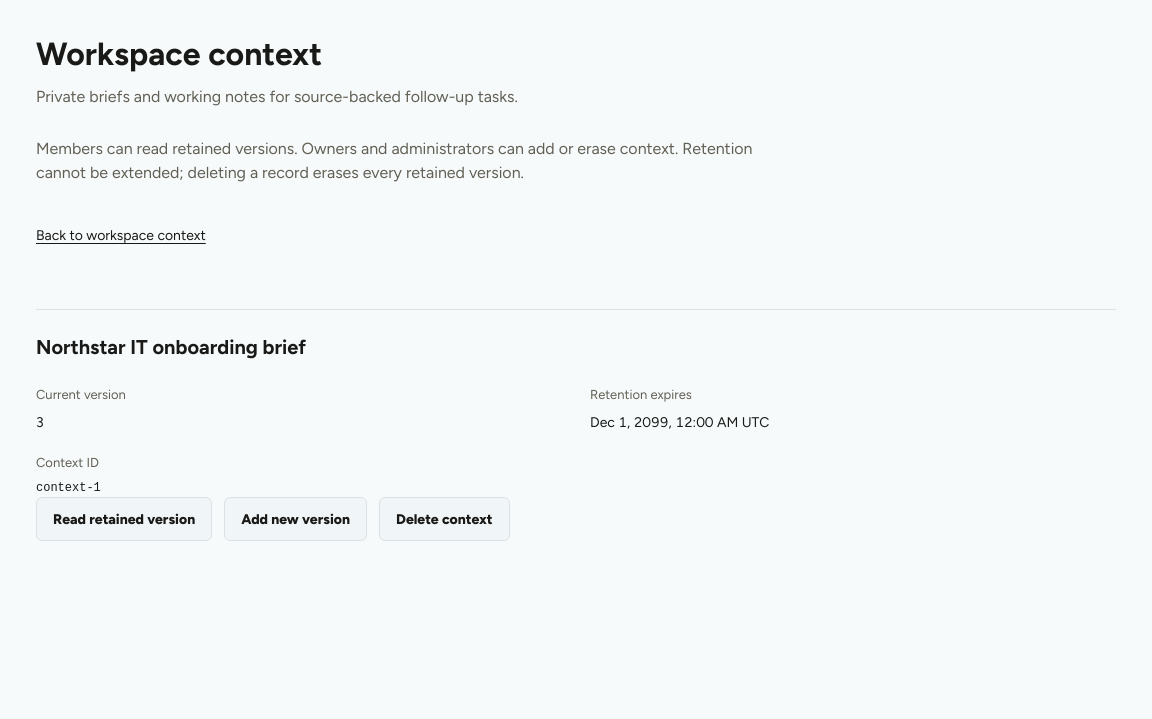
Test: uses expected_version and stops on conflicts until the current record is refreshed
Step 1. Click the button "Add new version" → click(296, 519), box [224,497,367,541]
(page scrolled)
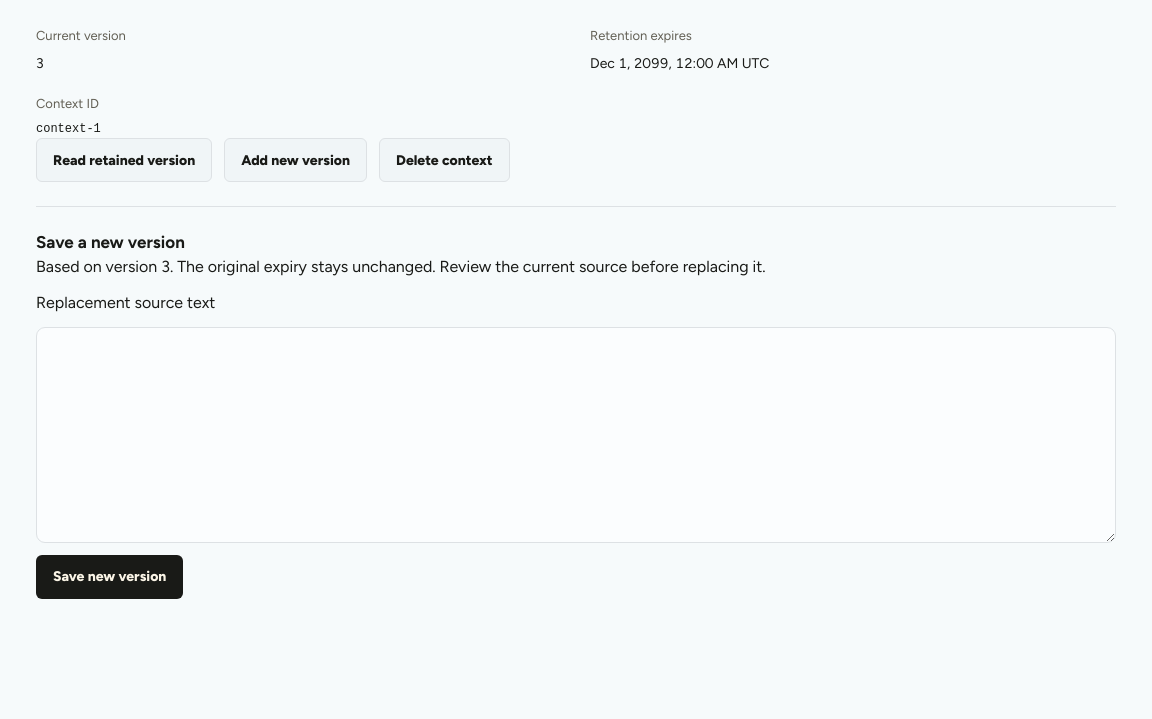
Step 2. Type "Reviewed support handoff" into the text box labelled "Replacement source text" → (576, 435), box [36,327,1116,543]
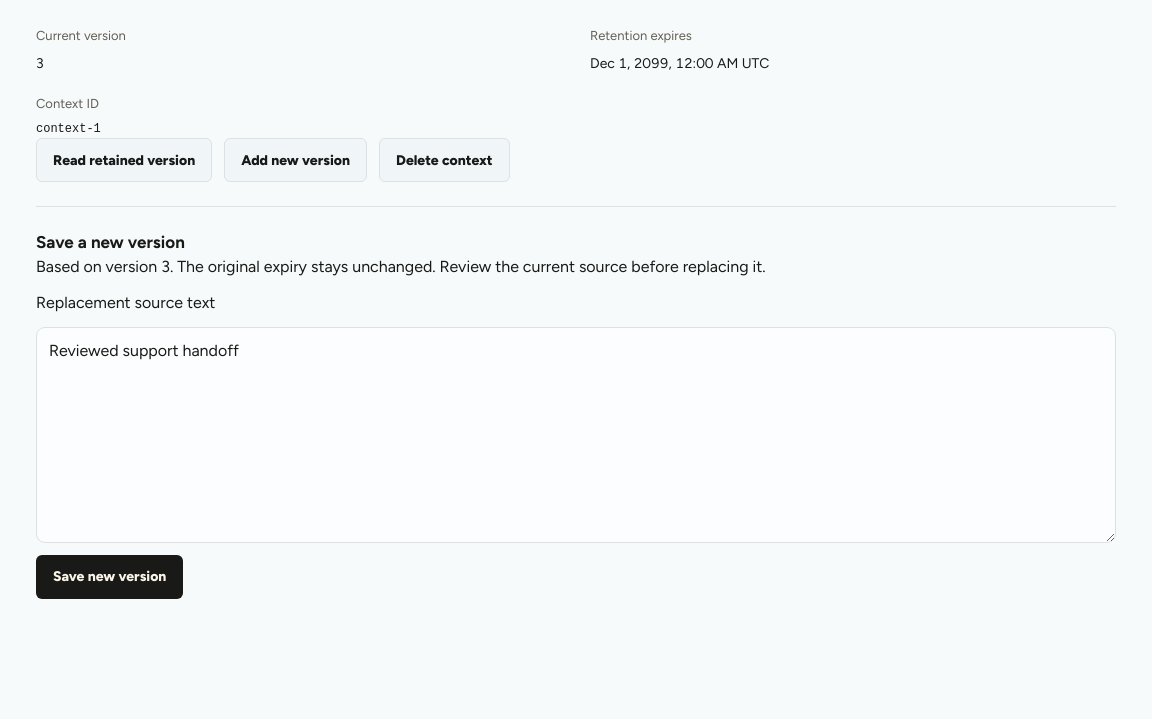
Step 3. Click the button "Save new version" → click(110, 577), box [36,555,183,599]
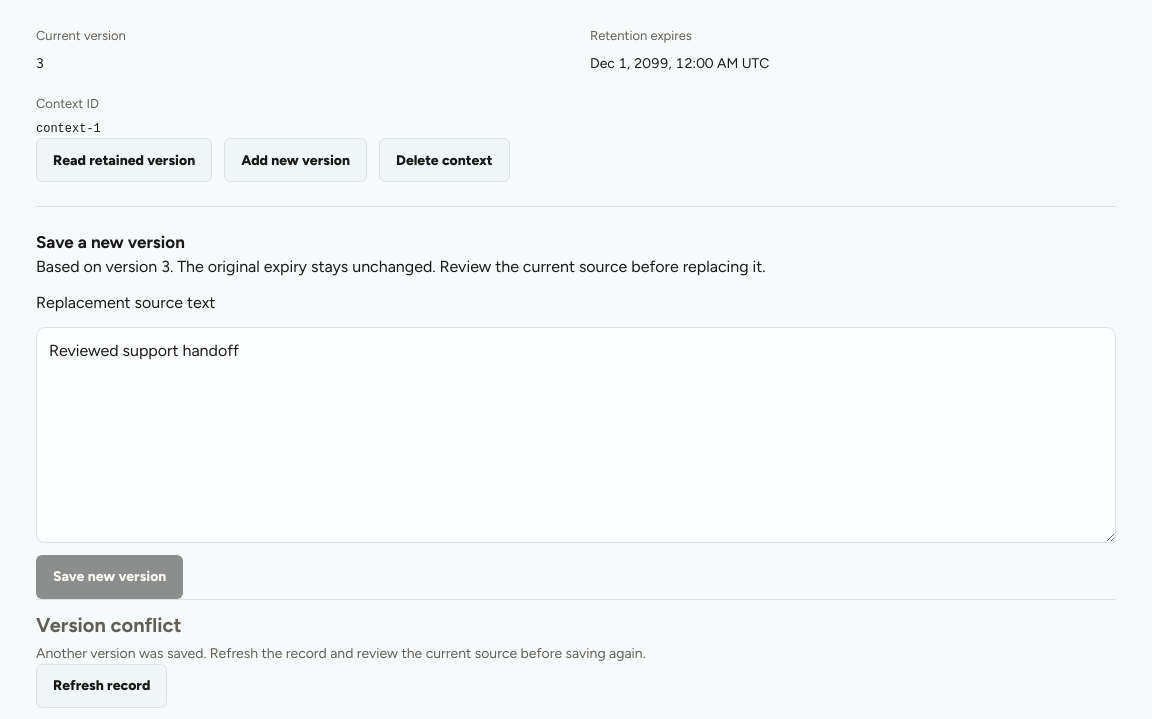
Now the heading "Version conflict" is shown, box [36,613,182,637]
Now the button "Save new version" is disabled, box [36,555,183,599]
Step 4. Click the button "Refresh record" → click(102, 686), box [36,664,167,708]
(page scrolled)
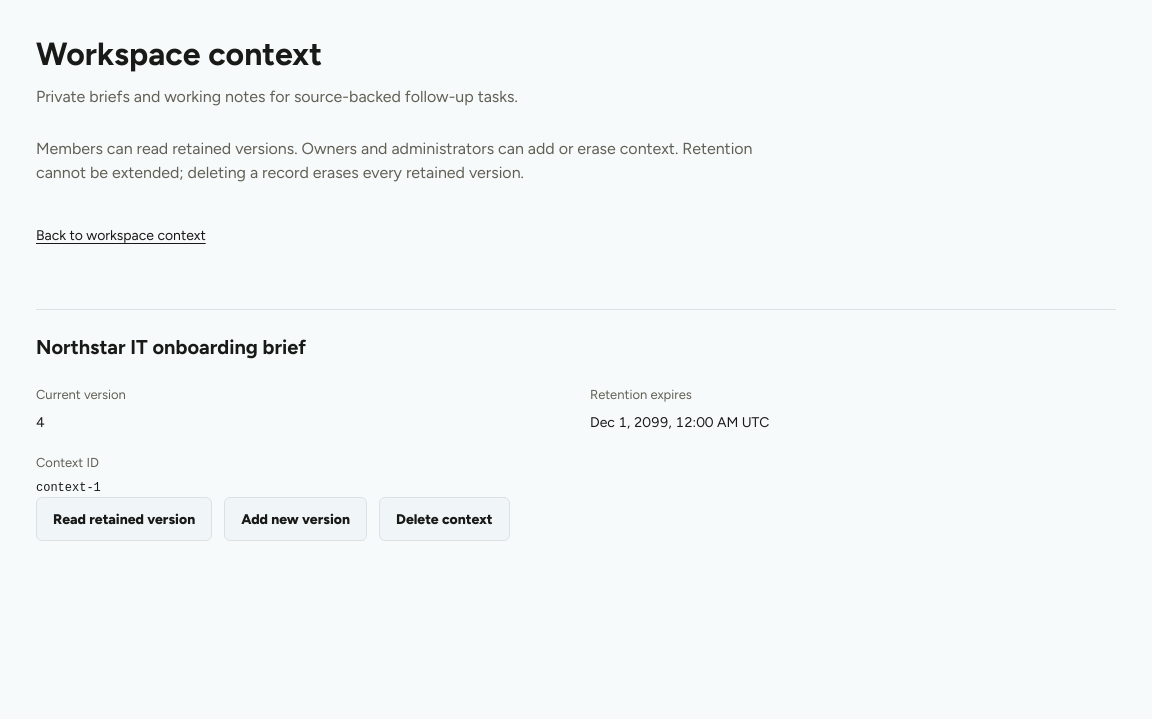
Now the heading "Version conflict" is gone
Now the label labelled "Replacement source text" is gone
